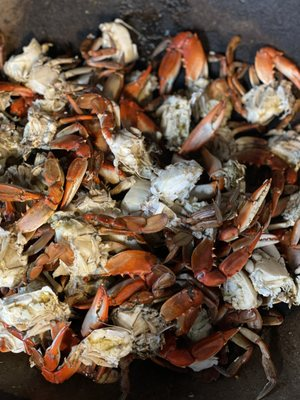sandwich: (1, 19, 299, 399)
